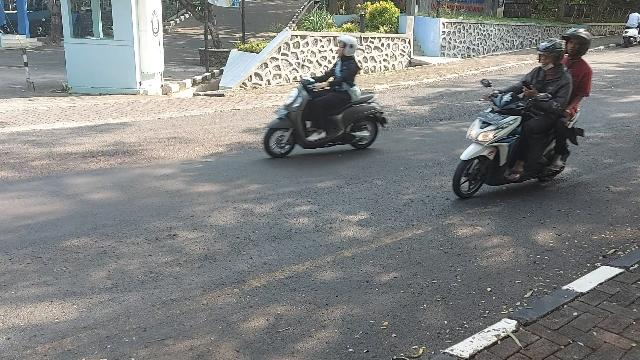helm: (538, 39, 566, 69), (563, 29, 592, 57), (339, 37, 358, 58)
motor: (453, 80, 585, 200), (265, 77, 389, 160)
